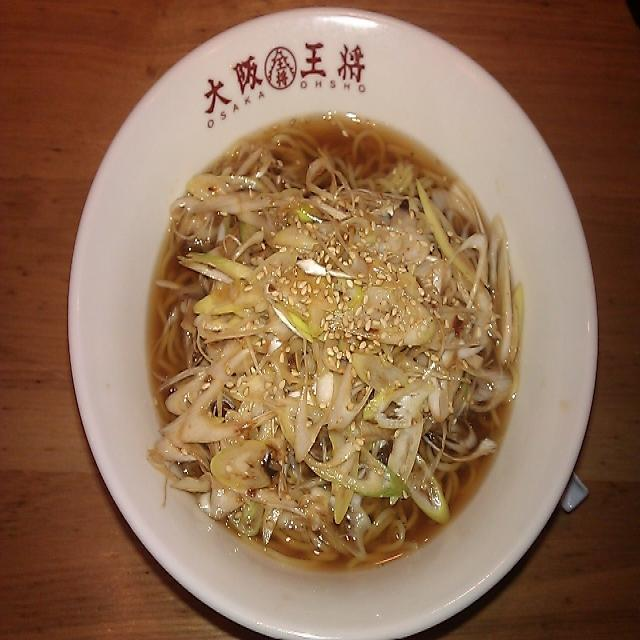面条主食: (65, 8, 600, 637)
